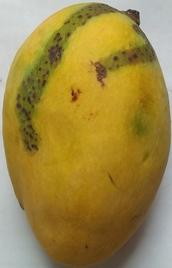Ripe: (1, 0, 172, 268)
